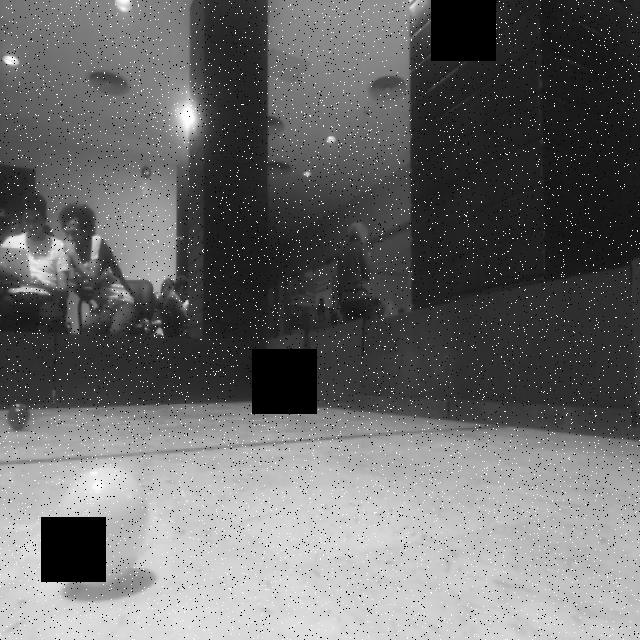ball: (51, 464, 155, 594), (2, 397, 34, 431)
